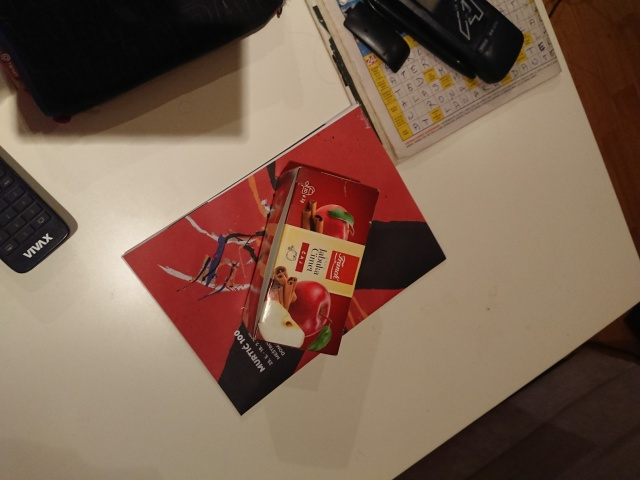Franck Apple Cinnamon Tea 60g: (237, 163, 382, 359)
